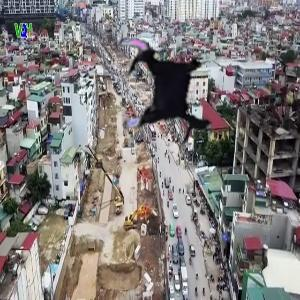drone: (92, 24, 232, 164)
